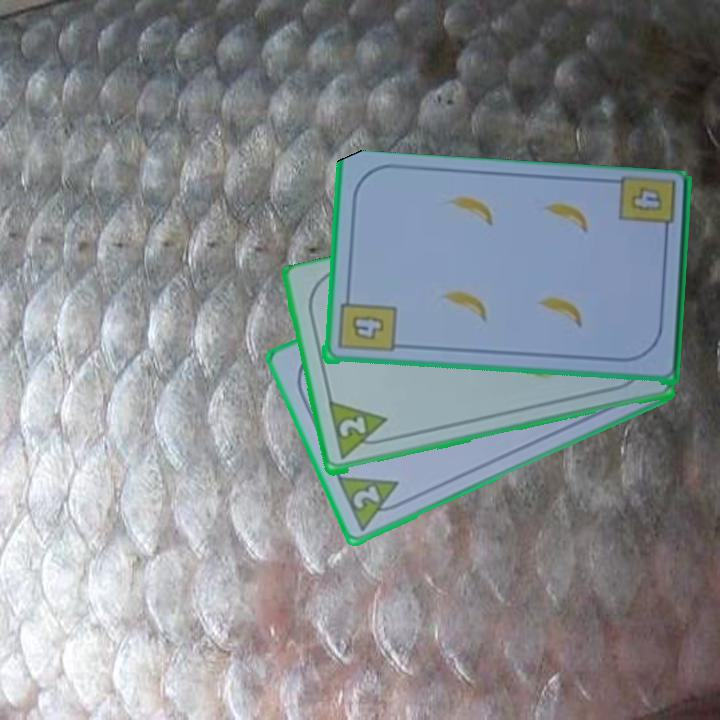2p: (333, 473, 409, 535), (325, 399, 393, 463)
4b: (614, 176, 678, 244), (334, 291, 397, 356)
